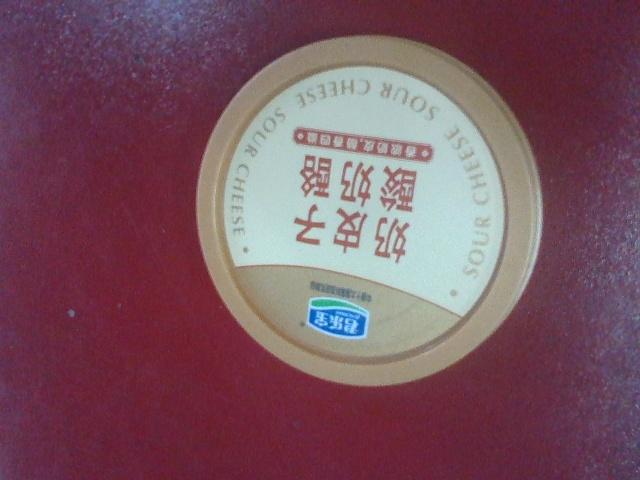lid: (169, 30, 550, 398)
